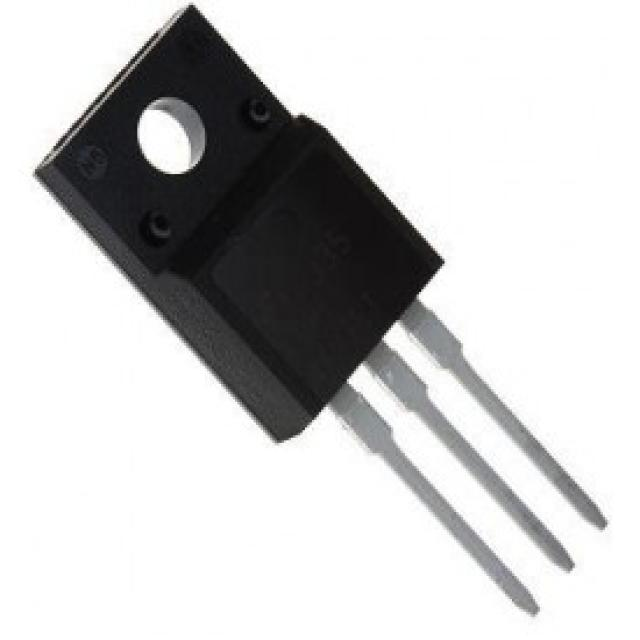Transistor: (38, 11, 612, 617)
